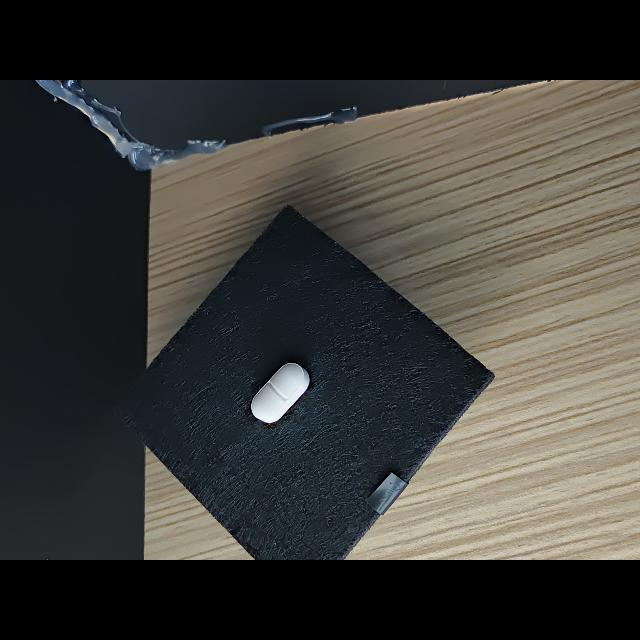Intact Pill: (251, 363, 310, 423)
